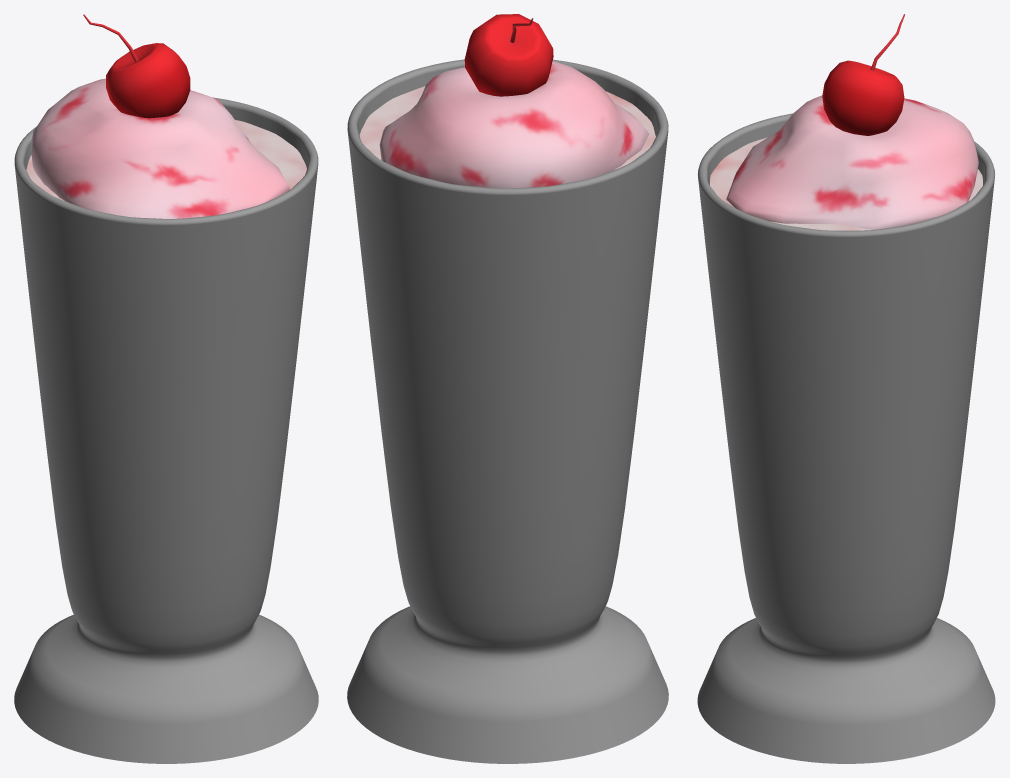
Rendered from CherrySoda.fbx.
The picture shows the model from 3 angles, left to right: view 1: azimuth 30°, elevation 25°; view 2: azimuth 150°, elevation 25°; view 3: azimuth 270°, elevation 25°; orthographic projection. The views are drawn at different scales.
Parts seen in each view (by area): view 1: Cup, IceCream, Cherry, Soda; view 2: Cup, IceCream, Cherry, Soda; view 3: Cup, IceCream, Cherry, Soda.
Boxes of the visible parts, bbox=[...] form: Cup: bbox=[14, 97, 318, 763]; IceCream: bbox=[31, 78, 289, 218]; Cherry: bbox=[83, 14, 190, 118]; Soda: bbox=[26, 120, 306, 200]; Cup: bbox=[347, 59, 668, 763]; IceCream: bbox=[379, 61, 649, 188]; Cherry: bbox=[464, 14, 553, 96]; Soda: bbox=[359, 86, 655, 169]; Cup: bbox=[697, 113, 995, 763]; IceCream: bbox=[726, 95, 978, 229]; Cherry: bbox=[822, 14, 904, 135]; Soda: bbox=[710, 137, 982, 230].
Bounding box in the file's own units: 365 × 895 × 365.
